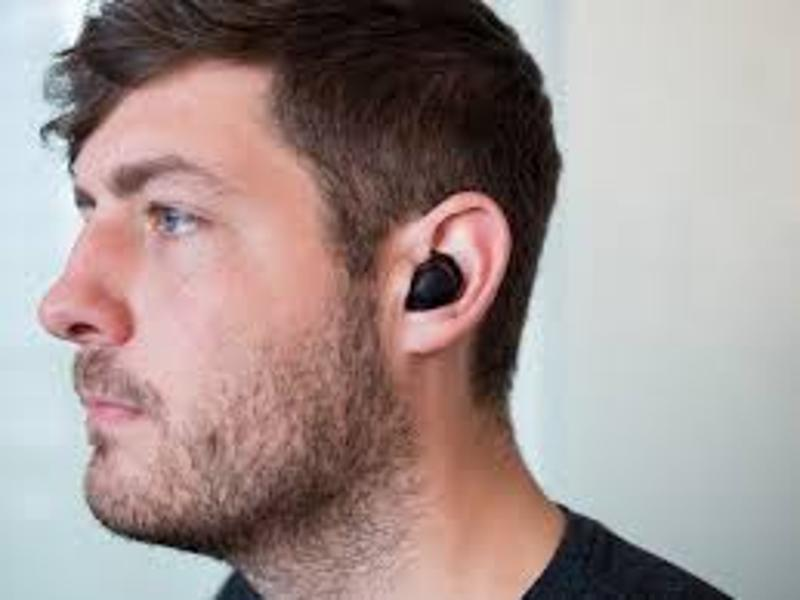headphone: (406, 251, 466, 313)
